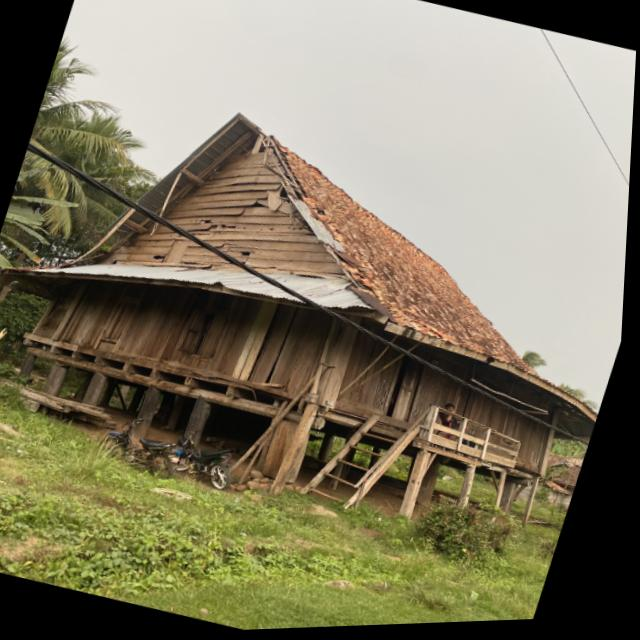Kolom: (416, 459, 440, 506)
Pintu: (386, 355, 425, 421)
Tangga: (0, 112, 596, 439), (300, 415, 419, 509)
jendela: (175, 307, 233, 363)
